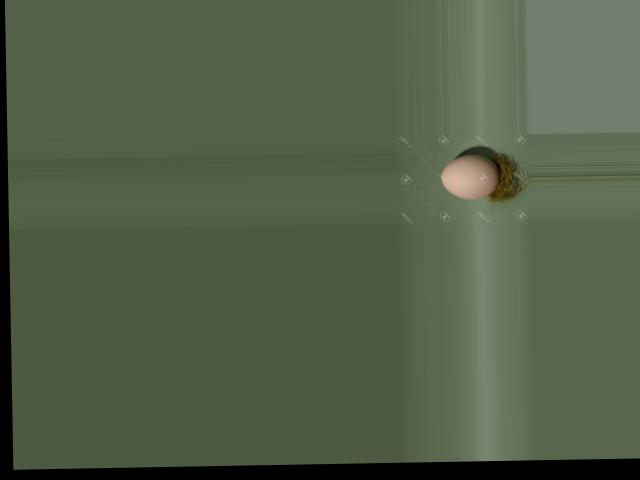egg: (440, 154, 499, 199)
